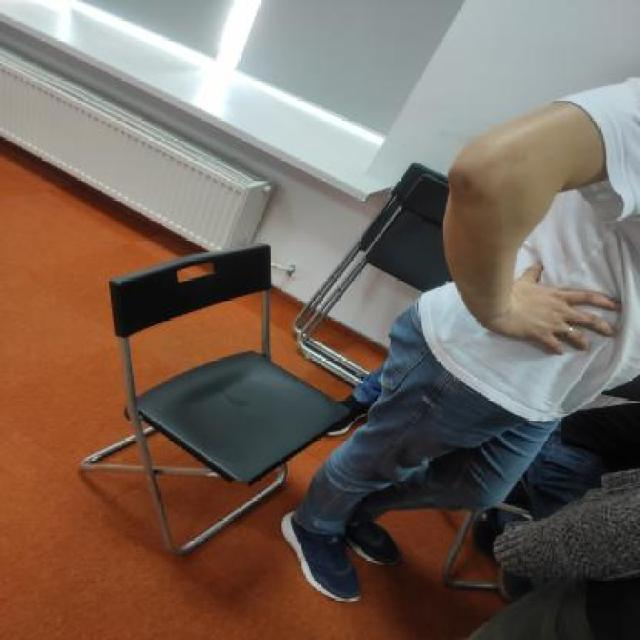chair: (61, 230, 352, 566)
